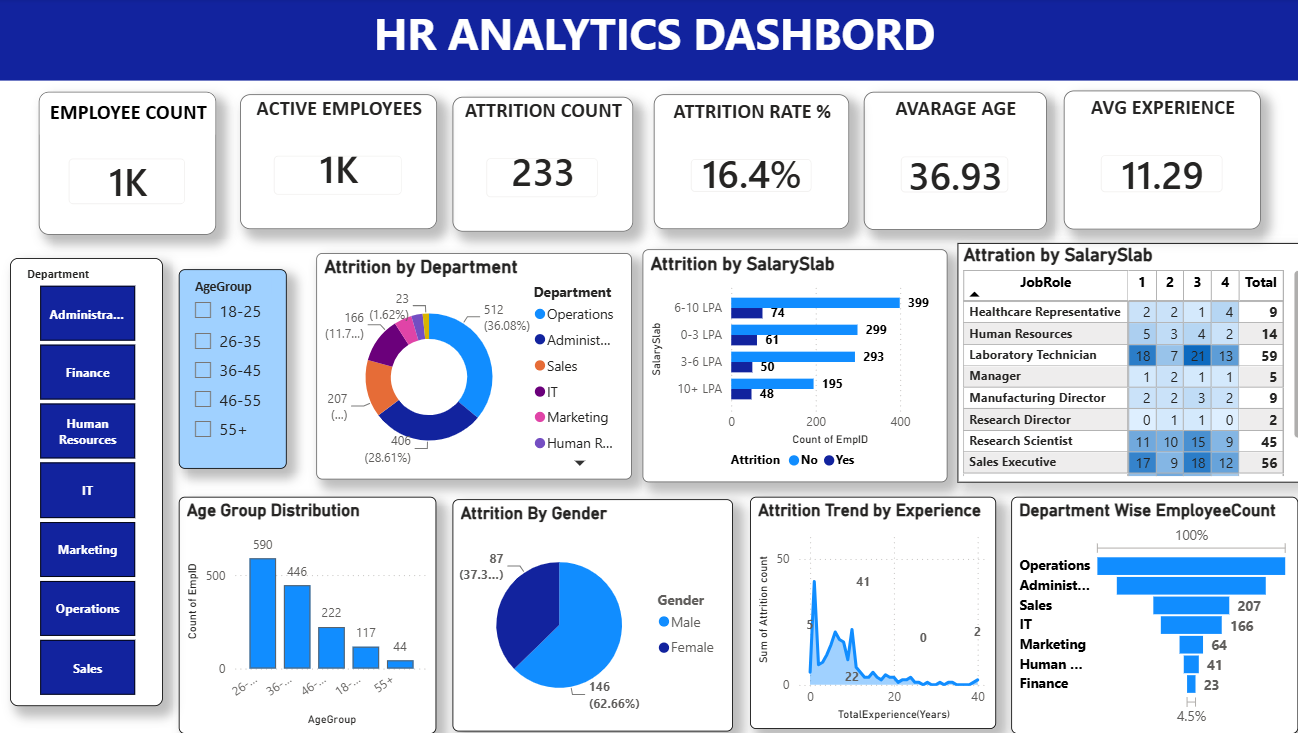

The page's visual inventory and layout, read from the dashboard file:
{"tool":"powerbi","page":{"name":"Page 1","canvas":[1280,720],"ordinal":0},"visuals":[{"type":"textbox","box":[0,0,1280.3,80.8],"z":0},{"type":"textbox","box":[10,290,280,280],"z":1},{"type":"cardVisual","title":"EMPLOYEE COUNT","fields":{"Data":["CountNonNull(HR_Analytics-4.EmpID)"]},"box":[37.8,92,173.9,139.9],"z":2},{"type":"cardVisual","title":"AVARAGE AGE","fields":{"Data":["Avg(HR_Analytics-4.Age)"]},"box":[845.5,92,178.9,134.8],"z":3},{"type":"cardVisual","title":"ATTRITION RATE %","fields":{"Data":["HR_Analytics-4.Attrition Rate %"]},"box":[640.1,94.5,191.5,132.3],"z":4},{"type":"cardVisual","title":"ATTRITION COUNT","fields":{"Data":["Sum(HR_Analytics-4.Attrition count)"]},"box":[442.3,97,176.4,132.3],"z":5},{"type":"cardVisual","title":"ACTIVE EMPLOYEES","fields":{"Data":["Sum(HR_Analytics-4.EmployeeCount)"]},"box":[234.4,94.5,192.8,132.3],"z":6},{"type":"donutChart","title":"Attrition by Department","fields":{"Category":["HR_Analytics-4.Department"],"Y":["CountNonNull(HR_Analytics-4.Department)"]},"box":[310,249.5,308.7,221.8],"z":8},{"type":"clusteredBarChart","title":"Attrition by SalarySlab","fields":{"Category":["HR_Analytics-4.SalarySlab"],"Y":["CountNonNull(HR_Analytics-4.EmpID)"],"Series":["HR_Analytics-4.Attrition"]},"box":[628.8,245.7,298.6,228.1],"z":9},{"type":"pivotTable","title":"Attration by SalarySlab","fields":{"Rows":["HR_Analytics-4.JobRole"],"Values":["Sum(HR_Analytics-4.Attrition count)"],"Columns":["HR_Analytics-4.JobSatisfaction"]},"box":[936.3,239.4,344,234.4],"z":10},{"type":"cardVisual","title":"AVG EXPERIENCE","fields":{"Data":["Avg(HR_Analytics-4.TotalExperience(Years))"]},"box":[1040.8,90.7,192.8,136.1],"z":11},{"type":"columnChart","title":" Age Group  Distribution","fields":{"Category":["HR_Analytics-4.AgeGroup"],"Y":["CountNonNull(HR_Analytics-4.EmpID)"]},"box":[175.2,487.7,252,231.9],"z":12},{"type":"pieChart","title":"Attrition By Gender","fields":{"Category":["HR_Analytics-4.Gender"],"Y":["Sum(HR_Analytics-4.Attrition count)"]},"box":[442.3,490.2,274.7,226.8],"z":13},{"type":"areaChart","title":" Attrition Trend by Experience","fields":{"Category":["HR_Analytics-4.TotalExperience(Years)"],"Y":["Sum(HR_Analytics-4.Attrition count)"]},"box":[733.4,487.7,240.7,226.8],"z":14},{"type":"funnel","title":" Department Wise EmployeeCount","fields":{"Category":["HR_Analytics-4.Department"],"Y":["CountNonNull(HR_Analytics-4.EmpID)"]},"box":[989.2,487.7,281,231.9],"z":15},{"type":"slicer","fields":{"Values":["HR_Analytics-4.Department"]},"box":[10.1,254.5,150,438.5],"z":16},{"type":"slicer","fields":{"Values":["HR_Analytics-4.AgeGroup"]},"box":[175.2,265.9,105.8,195.3],"z":17}]}

Visuals, with their boxes in screenshot pixels (x1, y1, x2, y2), scaled from the page's 1280x720 canvas onto the 1298x733 screenshot:
textbox: [0, 0, 1297, 82]
textbox: [10, 295, 294, 580]
"EMPLOYEE COUNT" cardVisual: [38, 94, 215, 236]
"AVARAGE AGE" cardVisual: [857, 94, 1039, 231]
"ATTRITION RATE %" cardVisual: [649, 96, 843, 231]
"ATTRITION COUNT" cardVisual: [449, 99, 627, 233]
"ACTIVE EMPLOYEES" cardVisual: [238, 96, 433, 231]
"Attrition by Department" donutChart: [314, 254, 627, 480]
"Attrition by SalarySlab" clusteredBarChart: [638, 250, 940, 482]
"Attration by SalarySlab" pivotTable: [949, 244, 1297, 482]
"AVG EXPERIENCE" cardVisual: [1055, 92, 1251, 231]
" Age Group  Distribution" columnChart: [178, 497, 433, 732]
"Attrition By Gender" pieChart: [449, 499, 727, 730]
" Attrition Trend by Experience" areaChart: [744, 497, 988, 727]
" Department Wise EmployeeCount" funnel: [1003, 497, 1288, 732]
slicer - HR_Analytics-4.Department: [10, 259, 162, 706]
slicer - HR_Analytics-4.AgeGroup: [178, 271, 285, 470]
